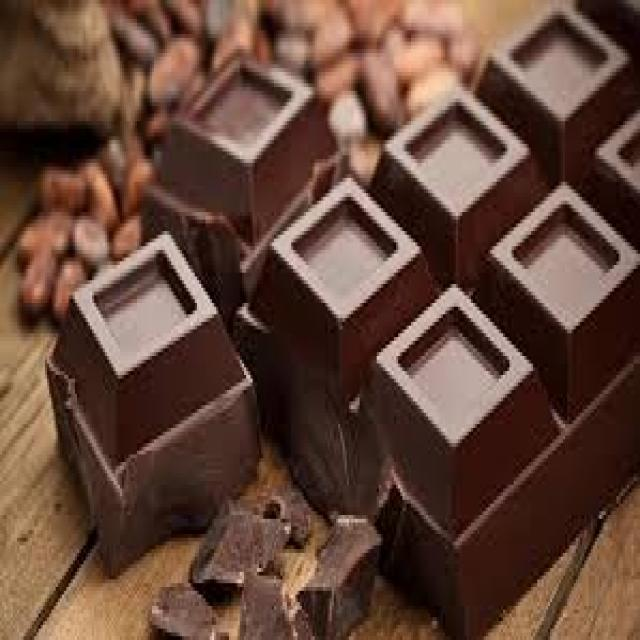Chocolate: (46, 0, 640, 640)
